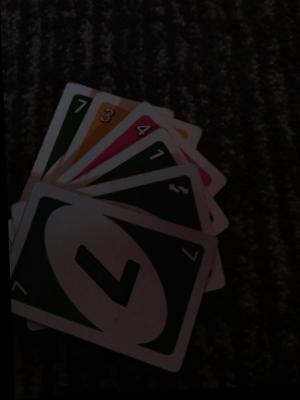num_1: (140, 146, 168, 165)
num_3: (94, 105, 117, 128)
num_4: (129, 121, 156, 142)
num_7: (174, 243, 200, 267), (8, 275, 29, 299), (72, 97, 88, 118)
reverse: (160, 181, 195, 206)
